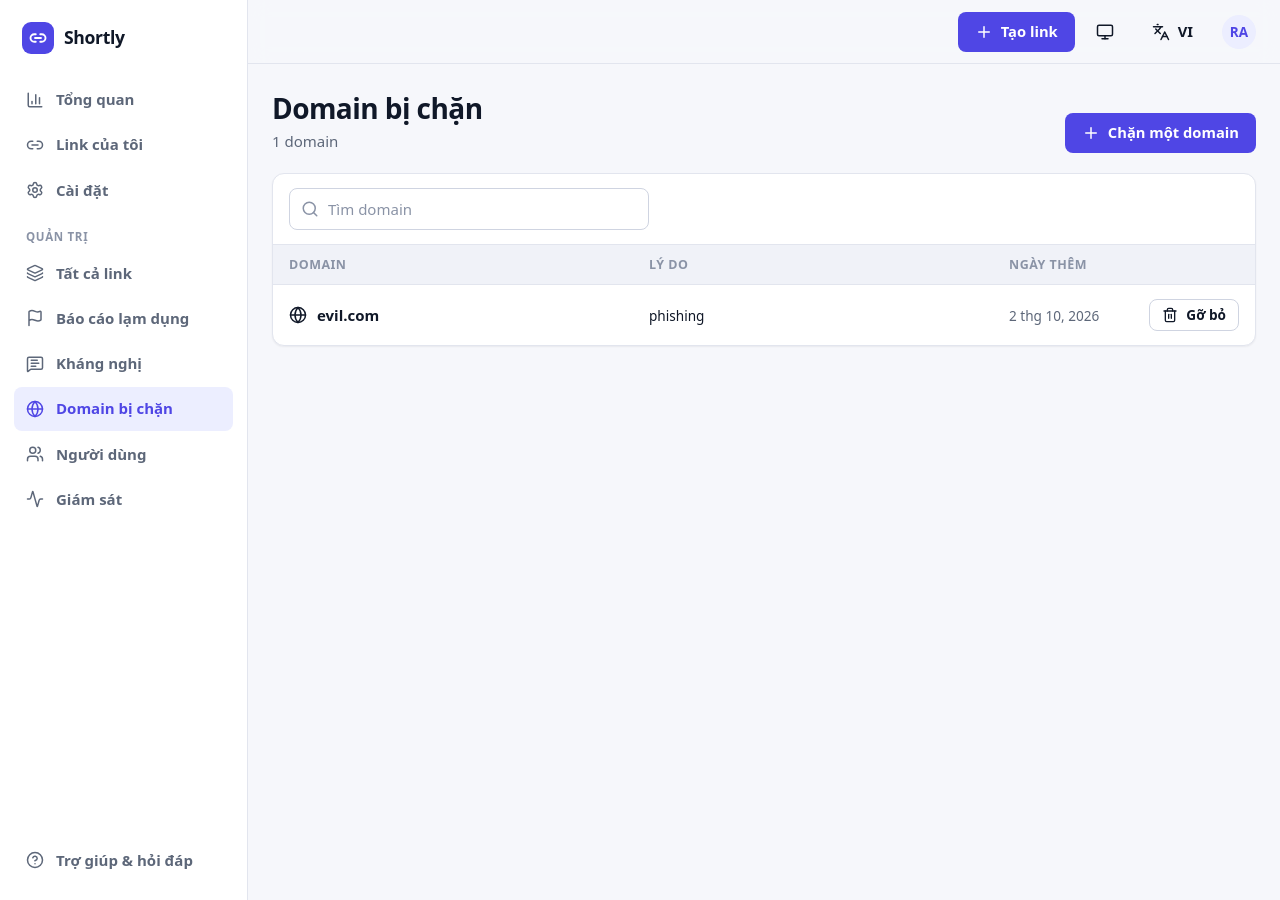
it: quản trị: domain bị chặn › gỡ domain: xác nhận rồi gọi DELETE và tải lại
expect the text "evil.com" is shown: met, box [317, 304, 379, 327]
Click the button with aria-label "Gỡ bỏ evil.com": click(1194, 315) [1149, 299, 1239, 331]
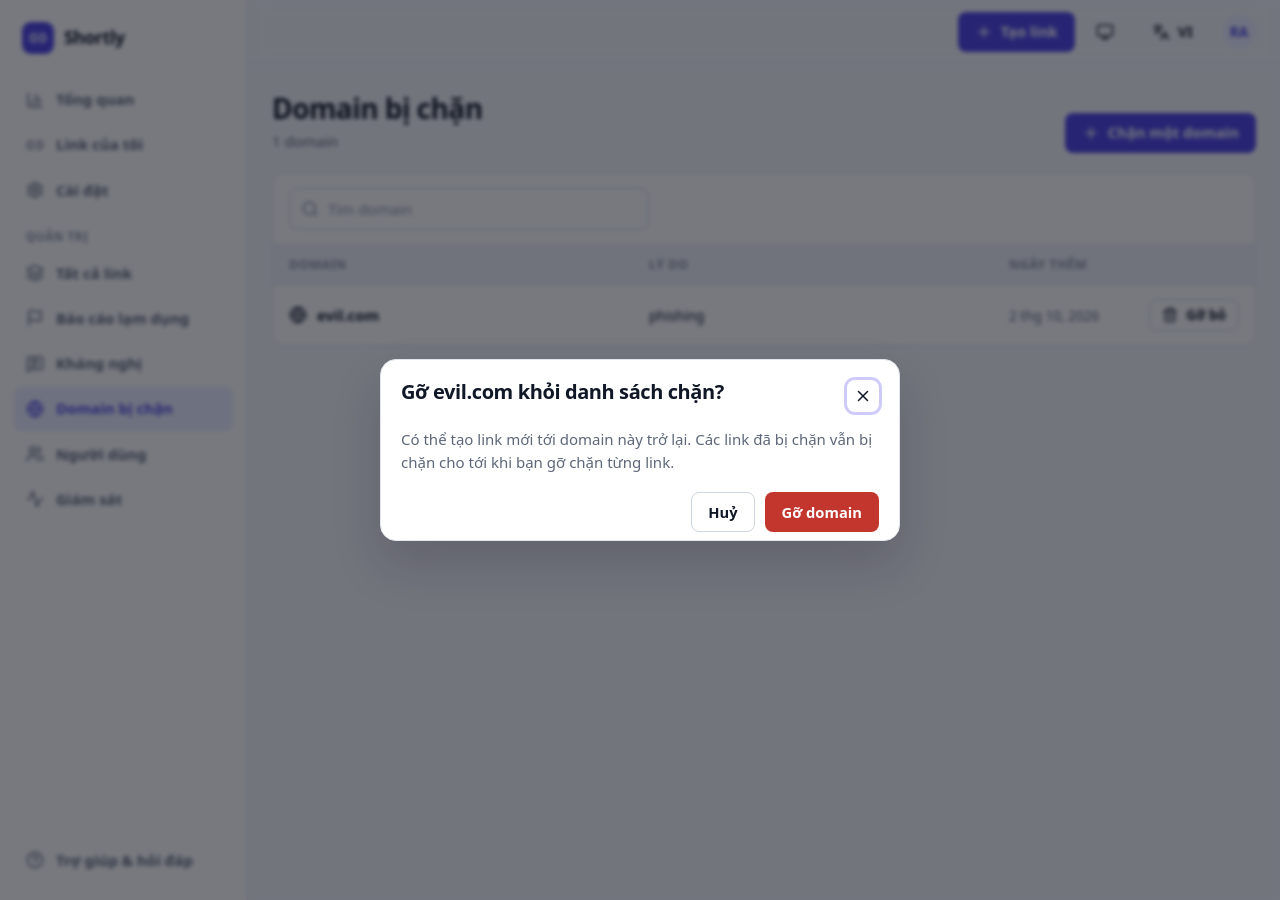
expect the text "vẫn bị chặn cho tới khi bạn gỡ chặn" is shown: met, box [401, 429, 872, 472]
Click the button "Gỡ domain": click(822, 512) [765, 492, 879, 532]
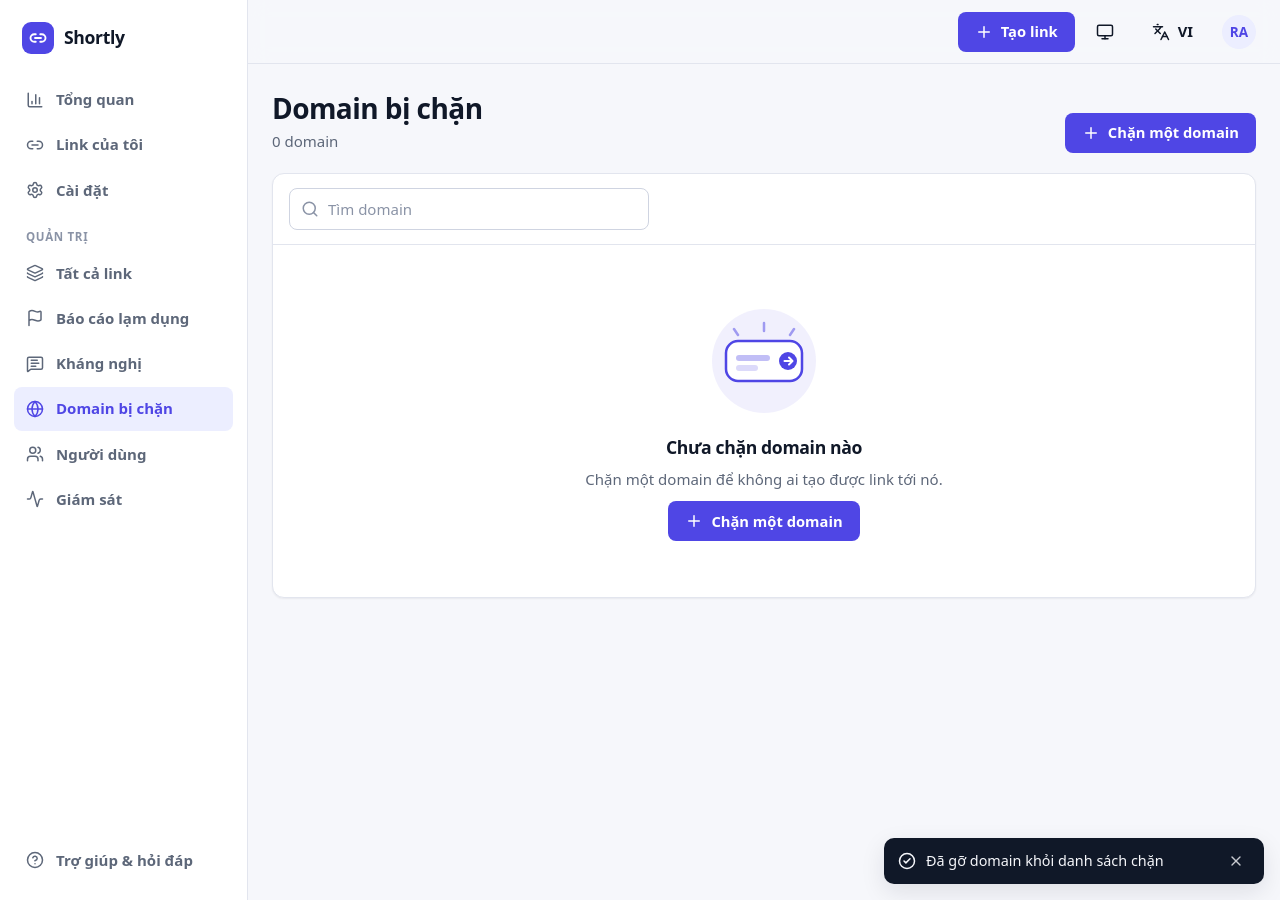
expect the heading "Chưa chặn domain nào" is shown: met, box [666, 437, 862, 458]
